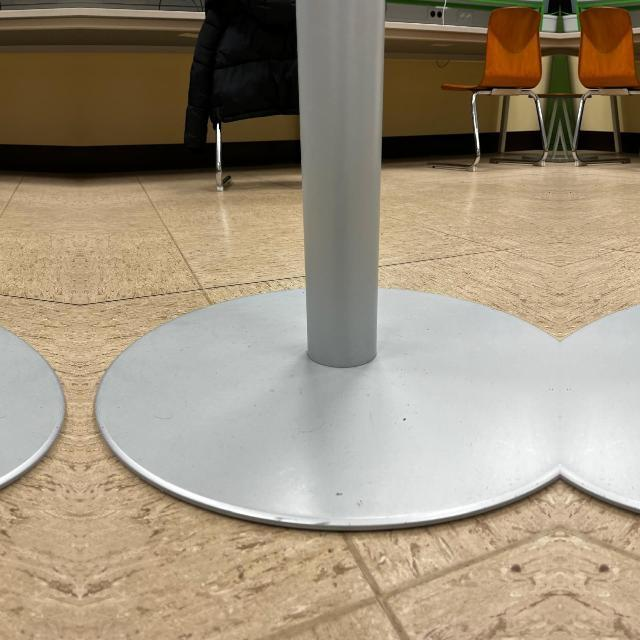obstacle: (91, 79, 542, 499), (0, 79, 68, 499), (577, 79, 640, 499)
